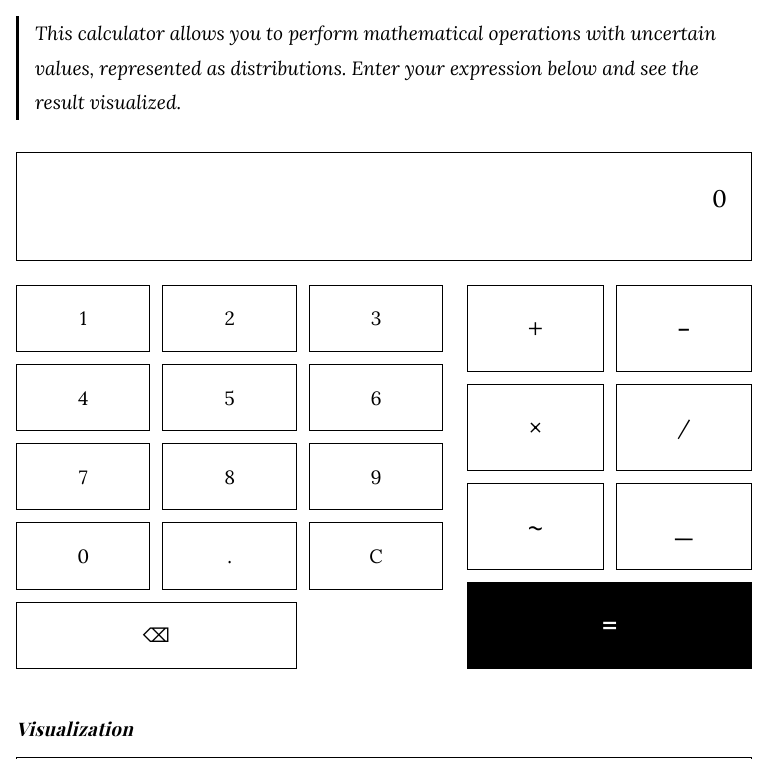
Test case: Calculator.vue Integration › should handle normal distribution input
Enter expression: 4 ~ 6
Step 1. Click the button "4" → (83, 398), box [16,364,150,431]
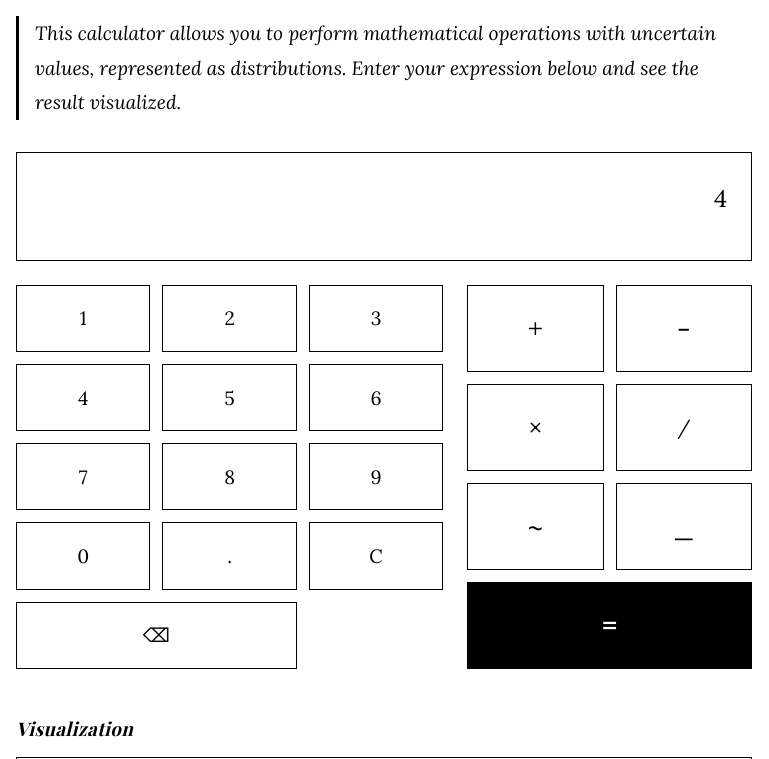
Step 2. Click the button "~" → (535, 526), box [467,483,604,570]
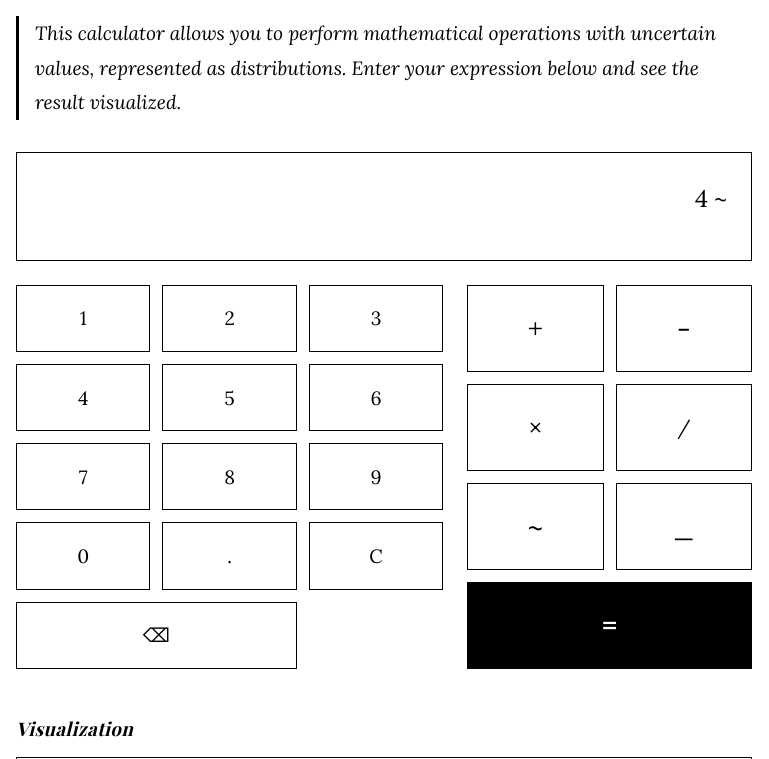
Step 3. Click the button "6" → (376, 398), box [309,364,443,431]
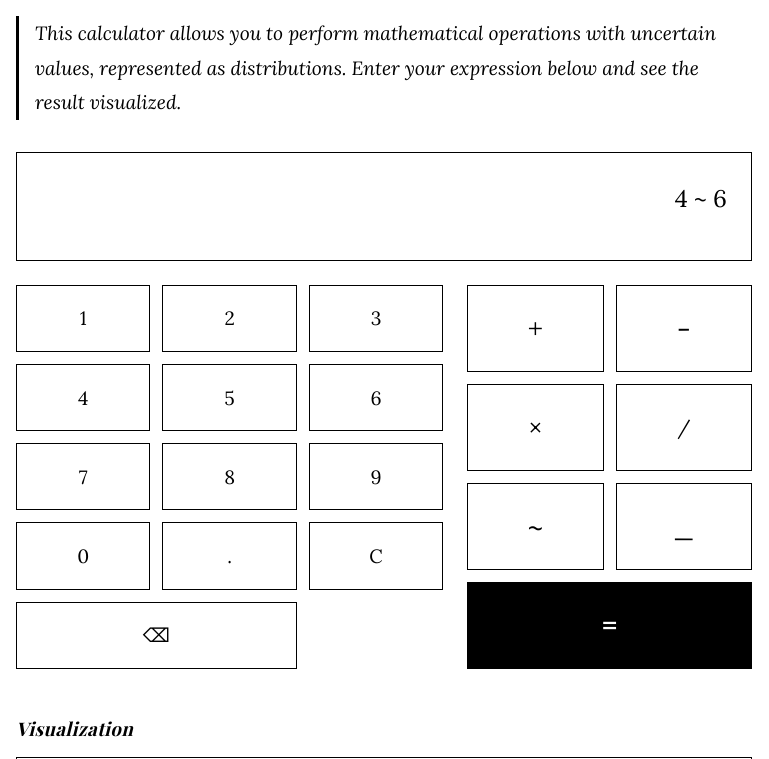
Click equals button
Step 4. Click the button with class "equals-button" → (610, 625), box [467,582,752,669]
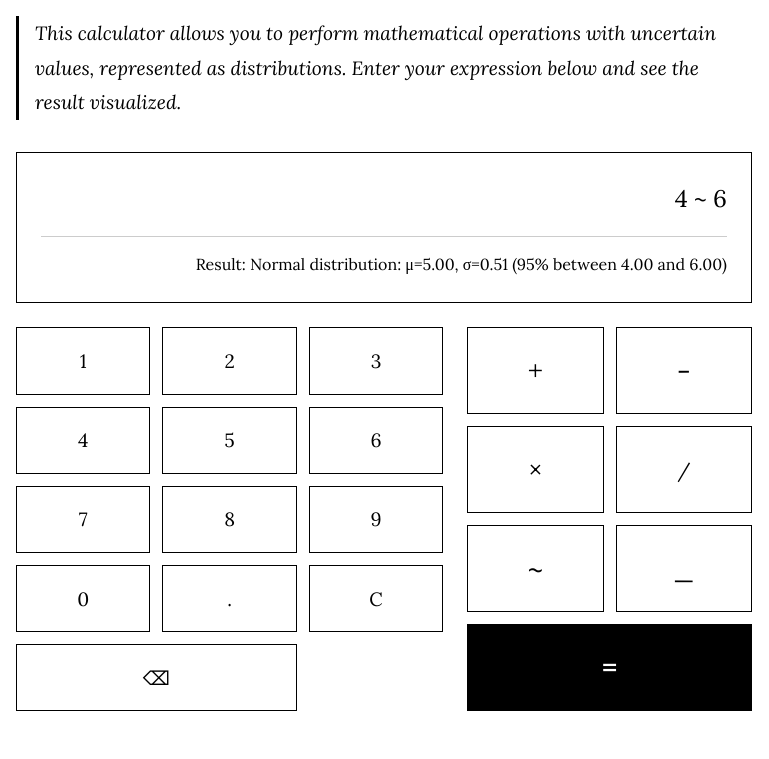
Expected: the text with class "result-display" shows "Normal distribution", [196,254,727,274]
Expected: the text with class "result-display" shows "μ=5.00", [196,254,727,274]
